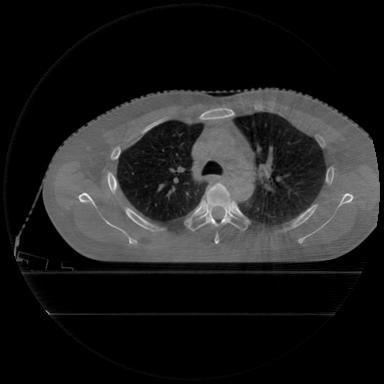body: (43, 89, 379, 262)
cord: (184, 183, 250, 231)
paru kanan: (117, 121, 205, 221)
paru kiri: (234, 112, 326, 224)
